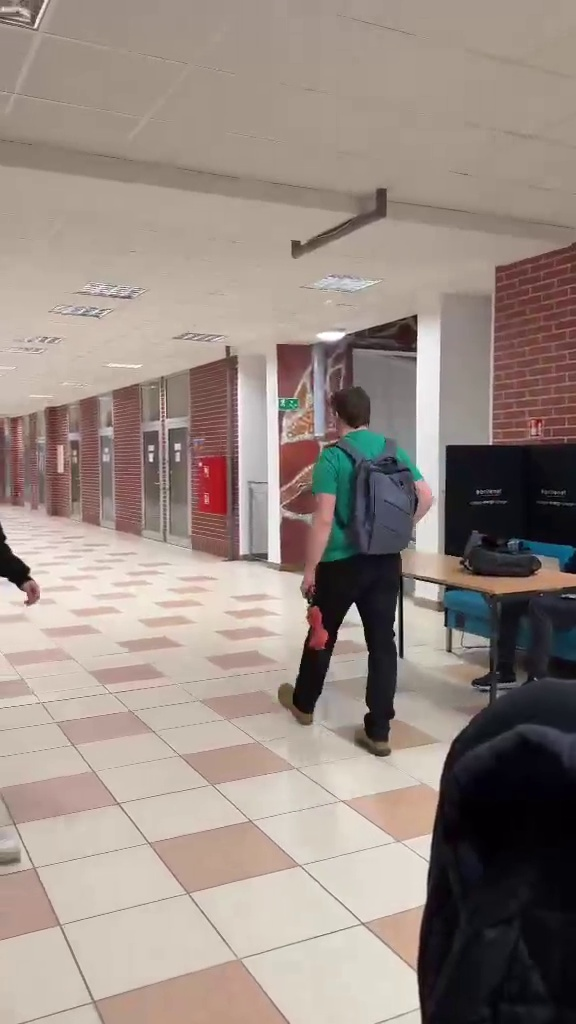no vest: (281, 384, 428, 753)
